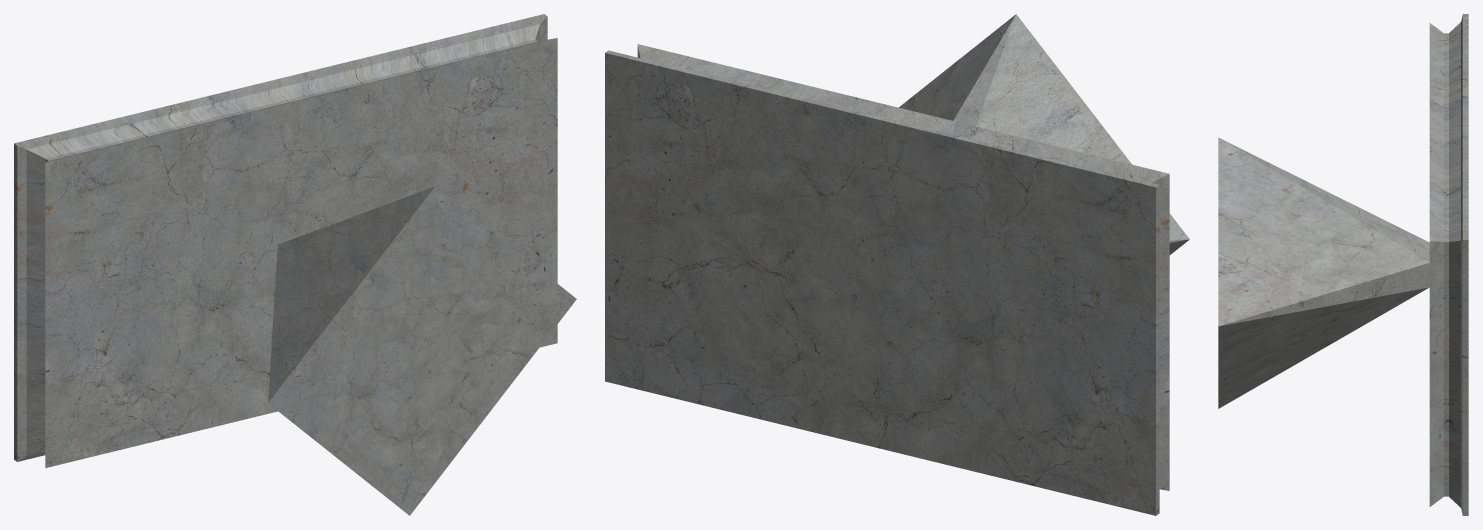
The model's file is podstavec.obj.
3 views of the same model, side by side, from view 1: azimuth 30°, elevation 25°; view 2: azimuth 150°, elevation 25°; view 3: azimuth 270°, elevation 25° (orthographic). The views are drawn at different scales.
Visible parts, largest first — view 1: podstavec_Cube.001; view 2: podstavec_Cube.001; view 3: podstavec_Cube.001.
Part boxes in pixels (x1,y1,x2,y2): podstavec_Cube.001: (14,14,576,515); podstavec_Cube.001: (605,14,1189,515); podstavec_Cube.001: (1218,14,1468,515).
Bounding box in the file's own units: 0.2718 × 0.1613 × 0.1272.
Materials: 1 (1 with a texture image).
